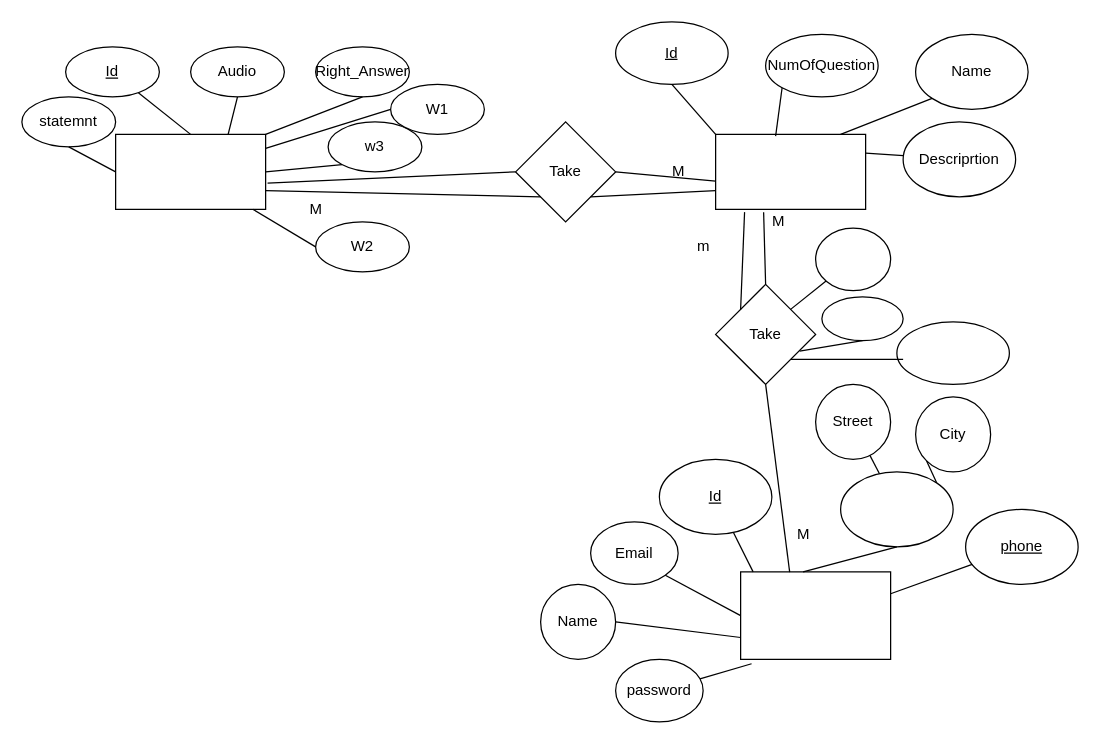
The diagram is 1100 pixels wide and 744 high, and some of its shapes have lost their labels. Each missing label, with the centre of its shape:
"Address" belongs at point (896, 509).
"Client" belongs at point (815, 615).
"Date" belongs at point (862, 318).
"Exams" belongs at point (790, 171).
"Questions" belongs at point (190, 171).
"Result" belongs at point (952, 352).
"Time" belongs at point (852, 259).
